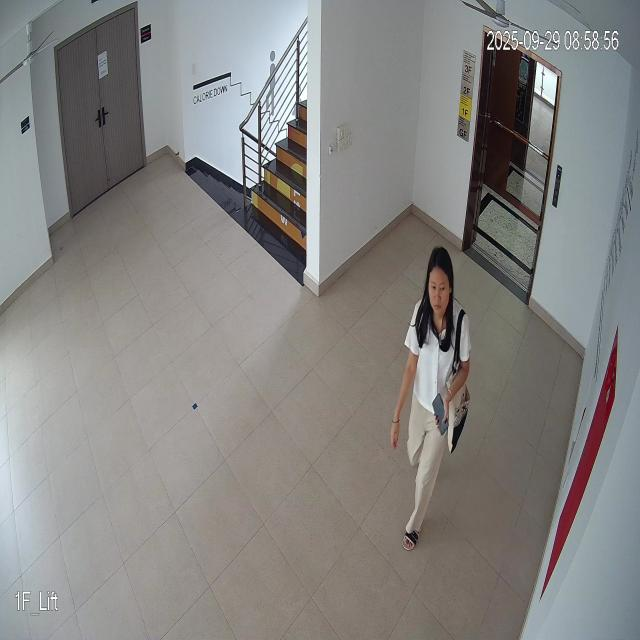face: (424, 241, 456, 325)
